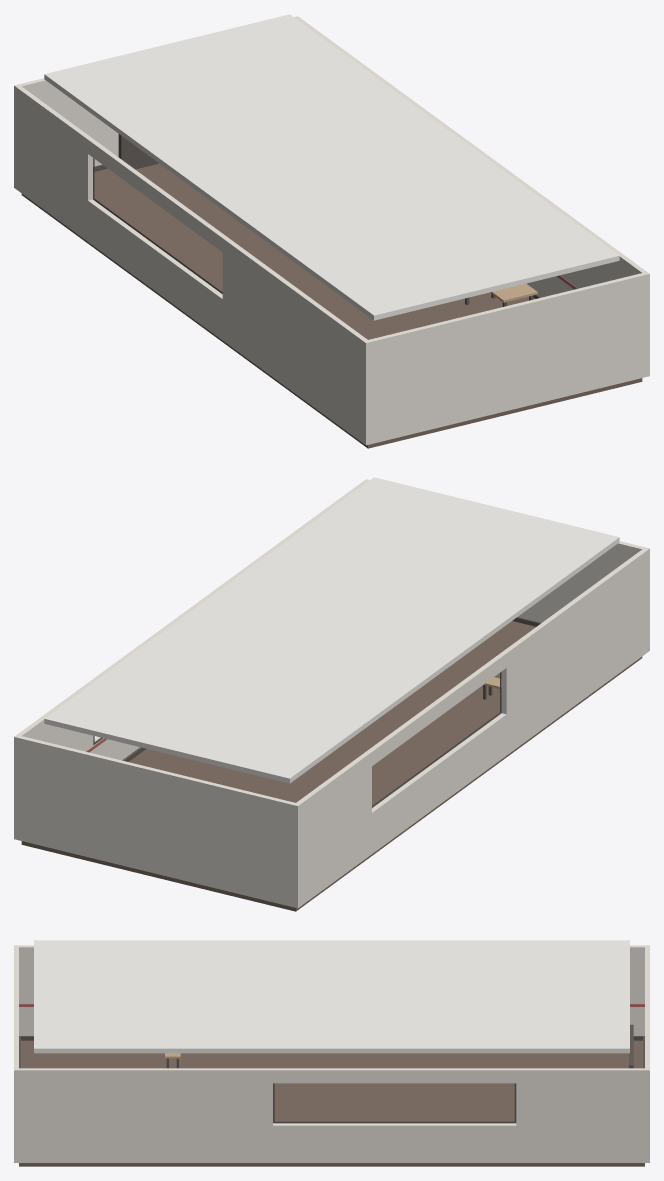
File: Room.glb
The picture shows the model from 3 angles, top to bottom: view 1: azimuth 30°, elevation 25°; view 2: azimuth 150°, elevation 25°; view 3: azimuth 270°, elevation 25°; orthographic projection. The views are drawn at different scales.
Parts seen in each view (by area): view 1: RoomCeiling, RoomWallFront, RoomWallLeftLow, RoomFloor, RoomWallLeftHigh, RoomWallLeftEndA, RoomWallLeftEndB, RoomWallBack, RoomWallRightHigh, RoomWallRightEndA, RoomBackdrop, RoomWallRightLow; view 2: RoomCeiling, RoomWallBack, RoomFloor, RoomWallLeftLow, RoomWallLeftEndA, RoomWallLeftHigh, RoomWallLeftEndB, RoomWallFront, RoomWallRightHigh, RoomWallRightEndB, RoomWallRightLow; view 3: RoomCeiling, RoomWallRightLow, RoomFloor, RoomWallRightEndA, RoomWallRightHigh, RoomWallRightEndB, RoomWallBack, RoomWallFront, RoomWallLeftLow, RoomWallRightFrameBottom, RoomWallLeftEndA, RoomWallLeftEndB (+1 smaller).
Boxes of the visible parts, x1=… form: RoomCeiling: x1=44, y1=14, x2=619, y2=320; RoomWallFront: x1=363, y1=272, x2=649, y2=445; RoomWallLeftLow: x1=16, y1=149, x2=363, y2=442; RoomFloor: x1=21, y1=163, x2=642, y2=448; RoomWallLeftHigh: x1=16, y1=86, x2=367, y2=354; RoomWallLeftEndA: x1=222, y1=253, x2=363, y2=401; RoomWallLeftEndB: x1=16, y1=102, x2=92, y2=200; RoomWallBack: x1=14, y1=16, x2=300, y2=189; RoomWallRightHigh: x1=297, y1=18, x2=646, y2=276; RoomWallRightEndA: x1=562, y1=263, x2=627, y2=287; RoomBackdrop: x1=118, y1=134, x2=158, y2=169; RoomWallRightLow: x1=526, y1=275, x2=579, y2=297; RoomCeiling: x1=44, y1=477, x2=619, y2=783; RoomWallBack: x1=14, y1=735, x2=300, y2=908; RoomFloor: x1=21, y1=621, x2=642, y2=911; RoomWallLeftLow: x1=300, y1=612, x2=647, y2=905; RoomWallLeftEndA: x1=502, y1=565, x2=647, y2=714; RoomWallLeftHigh: x1=296, y1=549, x2=647, y2=817; RoomWallLeftEndB: x1=300, y1=766, x2=371, y2=864; RoomWallFront: x1=363, y1=479, x2=649, y2=652; RoomWallRightHigh: x1=17, y1=481, x2=366, y2=739; RoomWallRightEndB: x1=36, y1=726, x2=92, y2=750; RoomWallRightLow: x1=84, y1=736, x2=139, y2=760; RoomCeiling: x1=34, y1=940, x2=629, y2=1053; RoomWallRightLow: x1=19, y1=1123, x2=644, y2=1162; RoomFloor: x1=19, y1=1040, x2=644, y2=1166; RoomWallRightEndA: x1=19, y1=1083, x2=272, y2=1125; RoomWallRightHigh: x1=19, y1=1068, x2=644, y2=1083; RoomWallRightEndB: x1=516, y1=1083, x2=644, y2=1125; RoomWallBack: x1=645, y1=945, x2=649, y2=1162; RoomWallFront: x1=14, y1=945, x2=18, y2=1162; RoomWallLeftLow: x1=19, y1=1002, x2=644, y2=1035; RoomWallRightFrameBottom: x1=273, y1=1121, x2=514, y2=1123; RoomWallLeftEndA: x1=19, y1=960, x2=33, y2=1002; RoomWallLeftEndB: x1=630, y1=960, x2=644, y2=1002.
Size of the model in its own units: 8.28 by 3.44 by 17.78.
